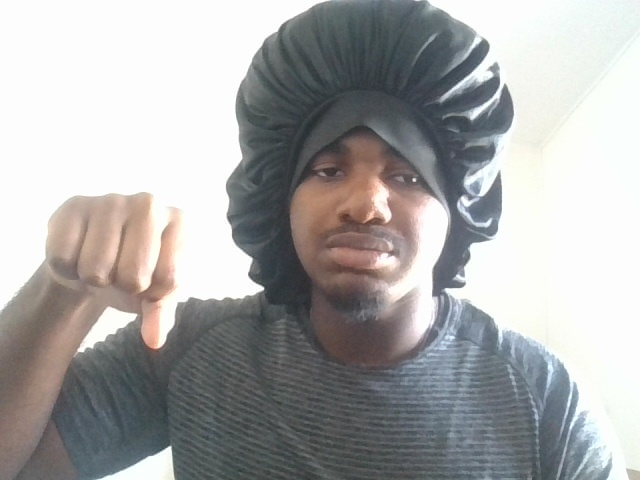Yes: (19, 164, 203, 357)
